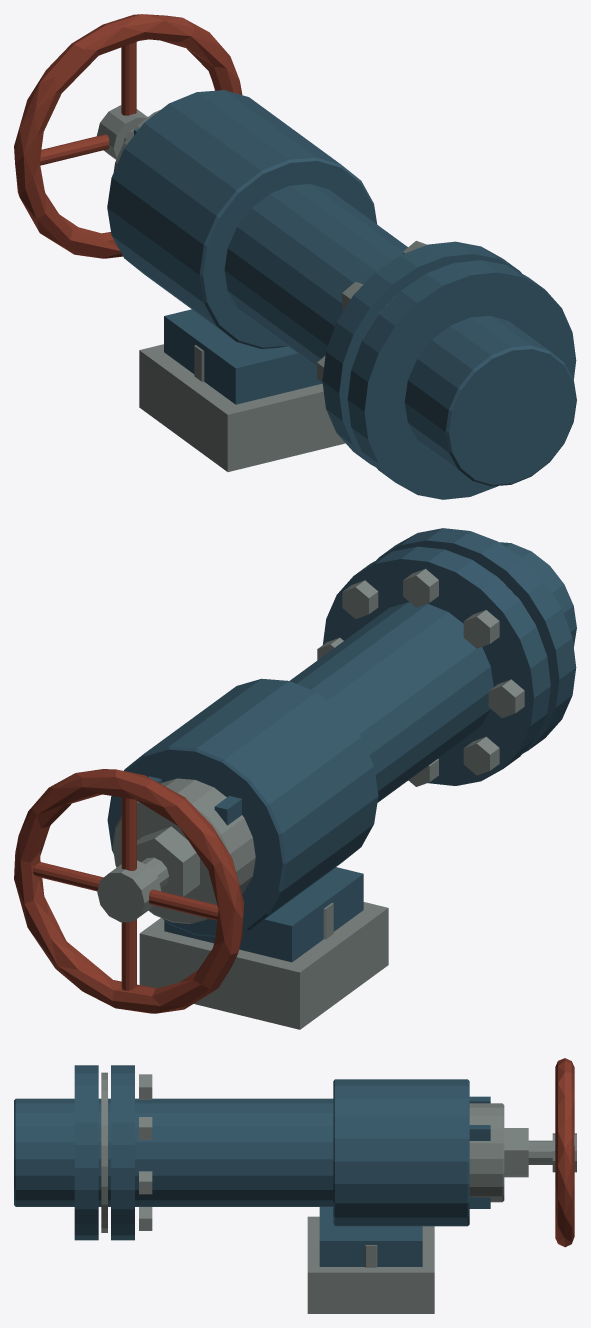
File: l2-service-valve.glb
3 views of the same model, one above another, from view 1: azimuth 30°, elevation 25°; view 2: azimuth 150°, elevation 25°; view 3: azimuth 270°, elevation 25° (orthographic). The views are drawn at different scales.
Visible parts, largest first — view 1: L2V_low_L2 valve blue enamel, L2V_low_L2 valve steel, L2V_low_L2 valve red wheel; view 2: L2V_low_L2 valve blue enamel, L2V_low_L2 valve steel, L2V_low_L2 valve red wheel; view 3: L2V_low_L2 valve blue enamel, L2V_low_L2 valve steel, L2V_low_L2 valve red wheel.
Part boxes in pixels (box(x1,y1,x2,y2)): L2V_low_L2 valve blue enamel: box(107, 90, 576, 499); L2V_low_L2 valve steel: box(97, 105, 426, 471); L2V_low_L2 valve red wheel: box(14, 14, 242, 258); L2V_low_L2 valve blue enamel: box(107, 528, 576, 962); L2V_low_L2 valve steel: box(97, 568, 535, 1029); L2V_low_L2 valve red wheel: box(14, 769, 244, 1013); L2V_low_L2 valve blue enamel: box(14, 1065, 490, 1266); L2V_low_L2 valve steel: box(101, 1072, 576, 1313); L2V_low_L2 valve red wheel: box(555, 1058, 574, 1247).
Size of the model in its own units: 0.6244 by 0.7963 by 1.86.
